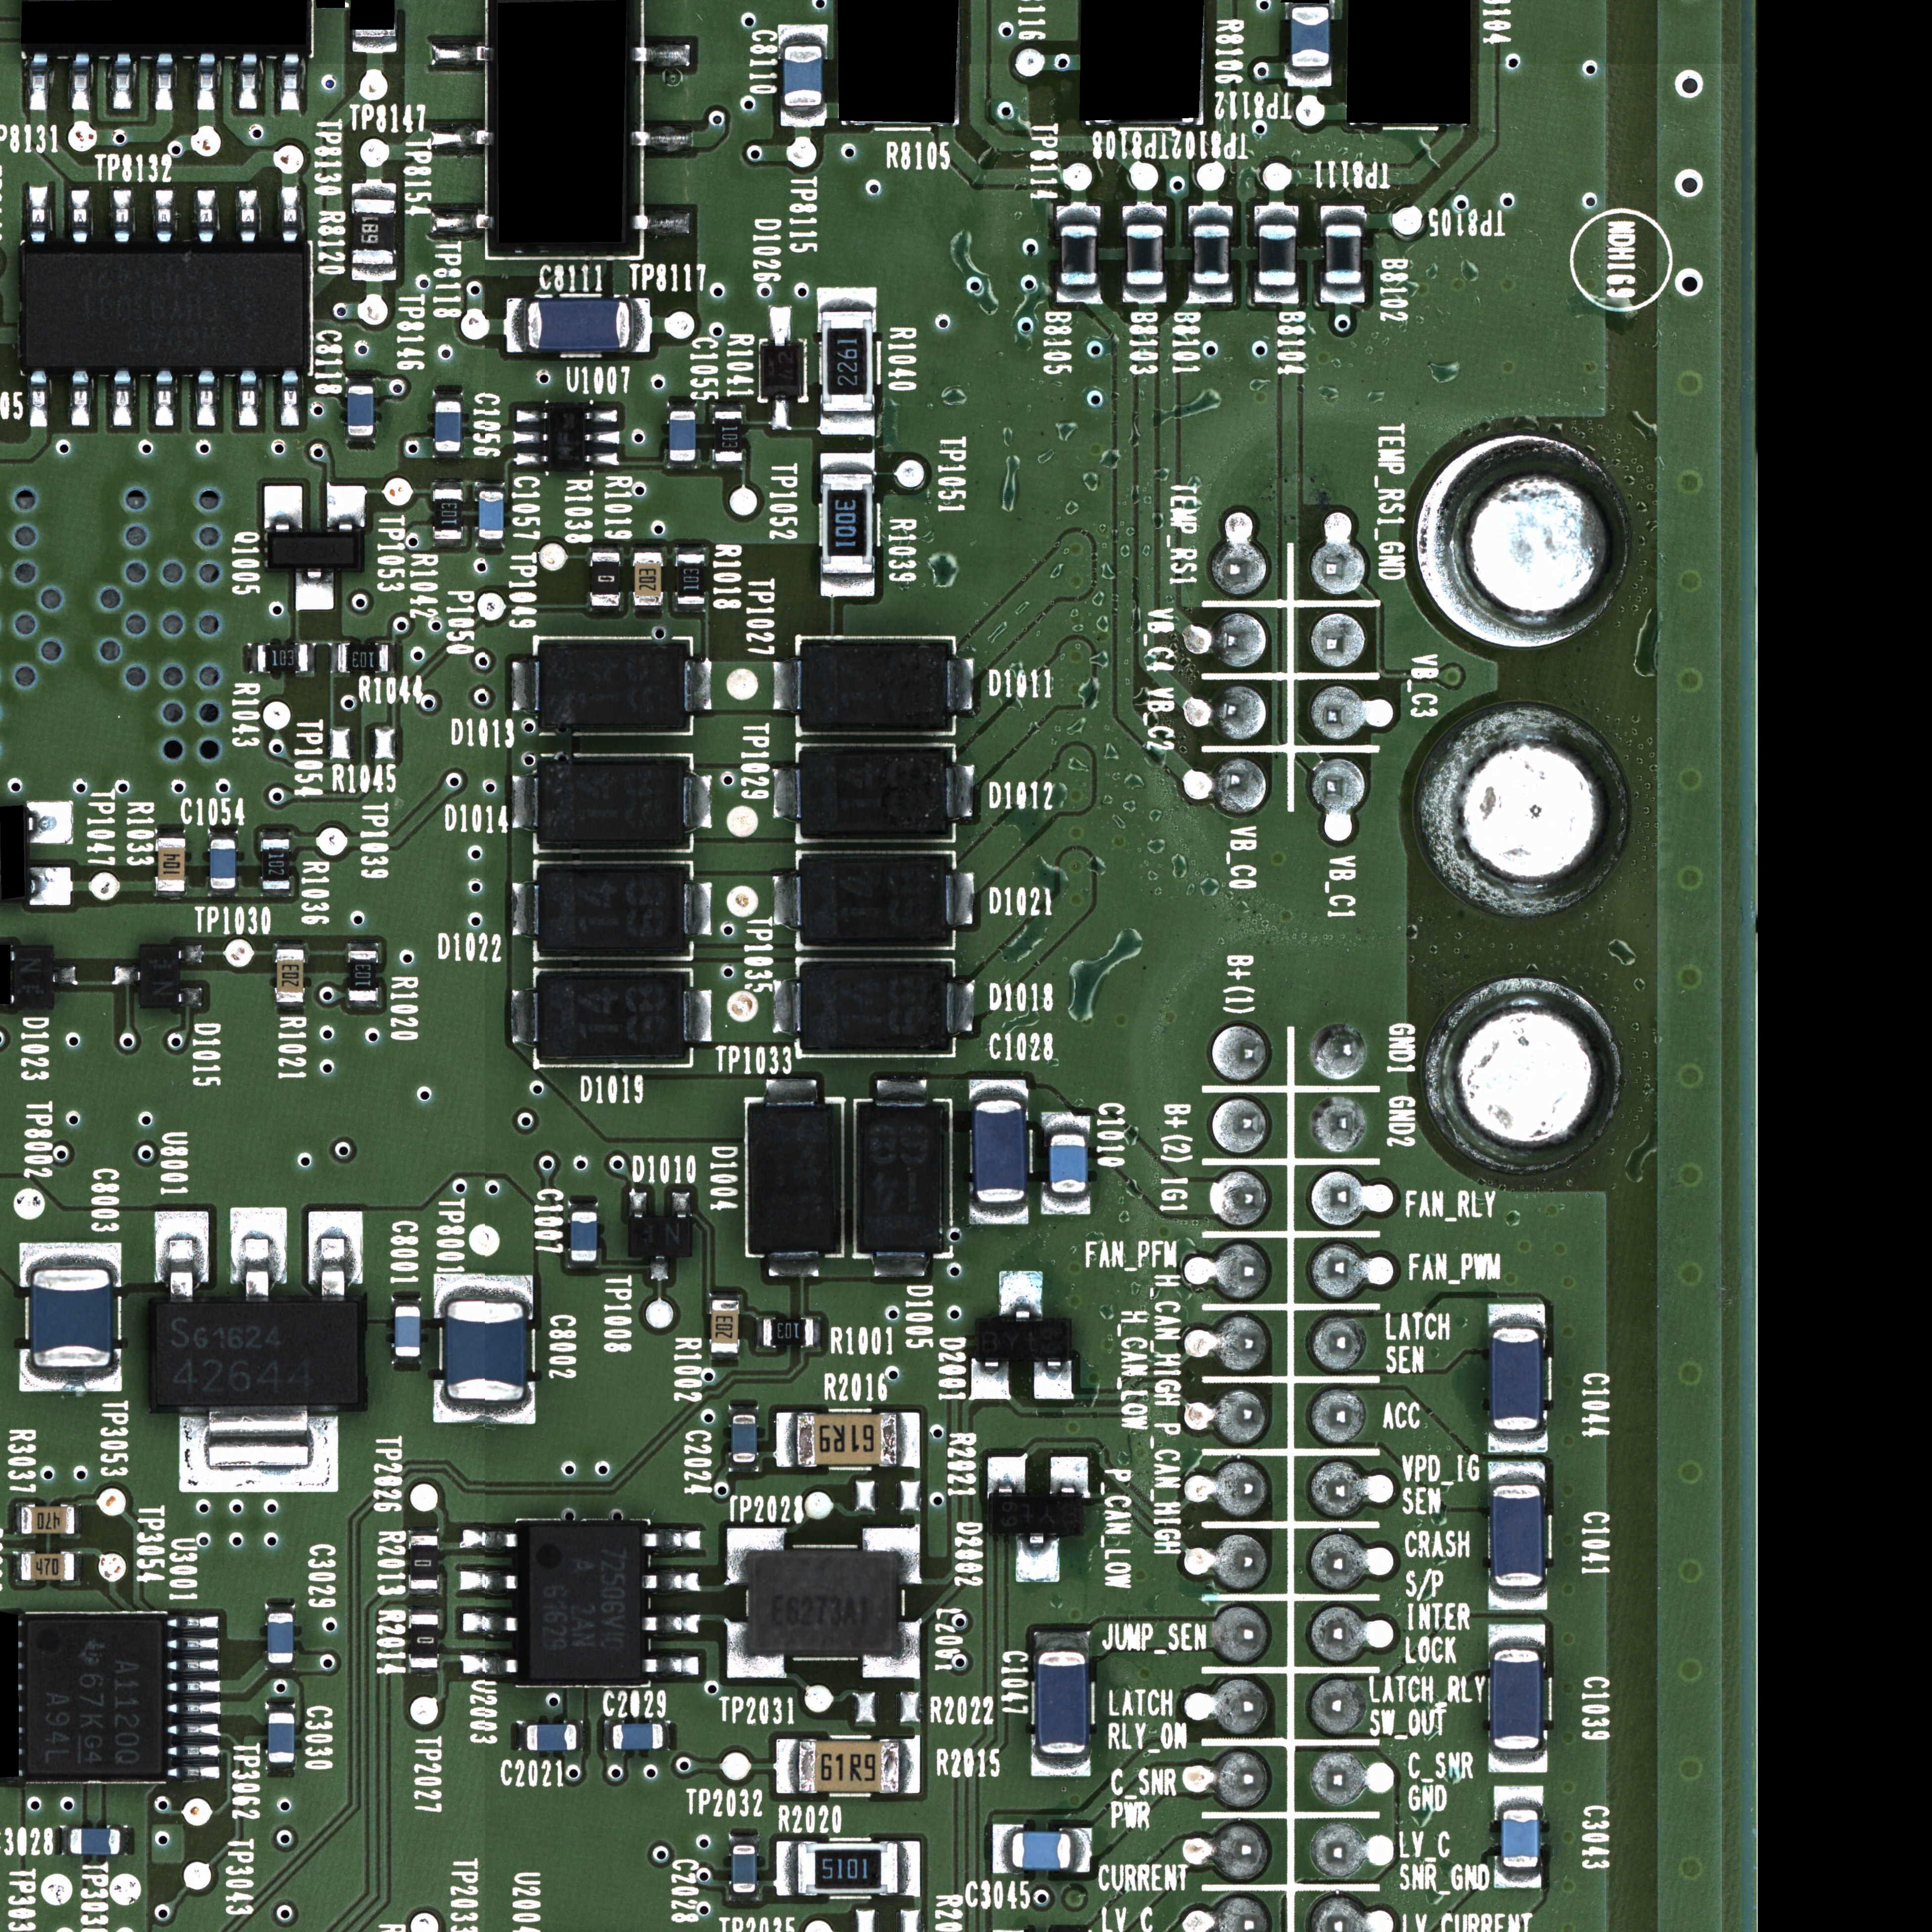Package: (26, 252, 305, 368), (26, 1619, 162, 1780), (155, 1304, 358, 1403), (529, 1526, 641, 1679), (752, 1553, 893, 1652), (749, 1104, 835, 1253), (539, 863, 684, 950), (801, 967, 948, 1051), (859, 1105, 943, 1251), (538, 971, 684, 1055), (538, 645, 685, 727), (539, 760, 683, 841), (800, 860, 946, 940), (801, 646, 947, 724), (800, 755, 946, 832), (28, 1269, 113, 1368), (798, 1740, 898, 1792), (1491, 1486, 1542, 1587), (528, 298, 629, 349), (797, 1414, 896, 1466), (973, 1102, 1024, 1202), (1036, 1653, 1086, 1755), (1492, 1329, 1541, 1430), (798, 1844, 897, 1894), (1492, 1649, 1541, 1749), (825, 313, 869, 413), (825, 475, 870, 574), (267, 532, 362, 568), (991, 1497, 1082, 1533), (980, 1321, 1068, 1359), (353, 198, 394, 264), (14, 946, 52, 1010), (628, 1218, 692, 1256), (783, 45, 822, 106), (140, 946, 178, 1005), (549, 406, 584, 472), (1292, 5, 1329, 67), (761, 345, 804, 398), (1014, 1831, 1071, 1869), (1259, 225, 1296, 285), (1061, 224, 1096, 285), (1127, 224, 1163, 284), (1502, 1809, 1539, 1868), (1326, 224, 1361, 284), (1050, 1135, 1086, 1194), (1194, 225, 1229, 284), (591, 553, 620, 605), (711, 1300, 739, 1355), (21, 1552, 74, 1581), (434, 489, 463, 540), (634, 552, 662, 605), (348, 950, 378, 1001), (21, 1506, 74, 1534), (410, 1615, 438, 1668), (411, 1536, 438, 1589), (277, 949, 303, 1002), (158, 838, 185, 890), (338, 644, 388, 672), (262, 839, 290, 889), (70, 1828, 120, 1855), (716, 412, 742, 461), (765, 1320, 814, 1346), (678, 554, 704, 604), (347, 386, 373, 436), (435, 401, 461, 451), (258, 645, 308, 671), (395, 1306, 420, 1356), (269, 1713, 294, 1762), (670, 411, 694, 461), (269, 1613, 293, 1663), (210, 839, 236, 888), (614, 1724, 662, 1749), (526, 1725, 576, 1750), (572, 1211, 596, 1261), (732, 1414, 755, 1462), (732, 1845, 755, 1892)
Solder: (178, 1405, 338, 1493), (231, 1208, 286, 1303), (308, 1211, 364, 1303), (156, 1211, 210, 1302), (862, 1527, 920, 1586), (728, 1529, 785, 1585), (727, 1622, 784, 1678), (862, 1623, 919, 1678), (20, 1243, 122, 1269), (19, 1366, 120, 1393), (1000, 1270, 1044, 1321), (1016, 1533, 1060, 1582), (276, 51, 307, 115), (29, 800, 73, 844), (430, 38, 490, 69), (431, 126, 493, 155), (108, 53, 139, 112), (431, 206, 492, 236), (327, 485, 365, 531), (264, 485, 302, 531), (30, 866, 73, 907), (633, 124, 694, 152), (150, 52, 178, 113), (235, 53, 262, 112), (1051, 1456, 1089, 1497), (295, 569, 334, 610), (25, 53, 52, 111), (818, 287, 877, 313), (634, 42, 694, 68), (1034, 1359, 1073, 1399), (971, 1358, 1009, 1399), (684, 775, 712, 829), (988, 1456, 1025, 1497), (510, 990, 538, 1042), (685, 882, 712, 936), (946, 872, 973, 925), (512, 776, 539, 829), (512, 883, 539, 936), (773, 768, 800, 820), (1488, 1303, 1545, 1328), (1488, 1586, 1548, 1610), (1488, 1749, 1548, 1773), (946, 765, 973, 817), (1489, 1624, 1545, 1649), (461, 1568, 516, 1594), (876, 1077, 927, 1105), (773, 874, 800, 926), (773, 660, 801, 710), (773, 980, 800, 1033), (1488, 1460, 1545, 1485), (1032, 1754, 1091, 1777), (685, 990, 711, 1042), (873, 1251, 925, 1277), (948, 658, 973, 711), (462, 1651, 517, 1676), (194, 53, 217, 111), (633, 211, 689, 236), (766, 1078, 818, 1104), (512, 661, 538, 712), (1488, 1430, 1548, 1452), (948, 981, 973, 1033), (970, 1078, 1027, 1101), (69, 53, 92, 110), (463, 1610, 517, 1634), (820, 411, 874, 435), (821, 573, 874, 596), (897, 1412, 920, 1467), (1033, 1630, 1089, 1652), (971, 1203, 1028, 1225), (768, 1253, 819, 1278), (686, 659, 711, 709), (462, 1528, 517, 1550), (642, 1614, 699, 1635), (776, 1739, 798, 1793), (1044, 1110, 1090, 1135), (641, 1531, 700, 1550), (1495, 1785, 1544, 1809), (505, 297, 526, 353), (641, 1656, 698, 1676), (899, 1841, 919, 1896), (630, 298, 651, 353), (641, 1573, 699, 1593), (238, 371, 258, 428), (154, 371, 174, 427), (281, 186, 300, 243), (820, 452, 874, 473), (29, 370, 48, 428), (197, 371, 216, 427), (29, 186, 48, 244), (776, 1412, 796, 1467), (776, 1841, 796, 1896), (777, 24, 828, 45), (71, 371, 90, 428), (113, 371, 132, 427), (281, 370, 300, 427), (901, 1738, 919, 1793), (239, 189, 257, 243), (992, 1824, 1013, 1874), (781, 105, 826, 128), (1188, 202, 1234, 225), (1056, 202, 1101, 224), (197, 190, 216, 243), (1043, 1193, 1091, 1214), (113, 190, 131, 243), (155, 190, 173, 244), (165, 1700, 223, 1716), (71, 190, 89, 244), (1496, 1868, 1541, 1888), (1255, 203, 1298, 224), (166, 1743, 223, 1759), (1123, 203, 1166, 224), (1321, 205, 1367, 224), (1072, 1828, 1091, 1873), (166, 1679, 222, 1694), (164, 1722, 221, 1738), (353, 180, 396, 199), (770, 306, 791, 346), (1285, 69, 1332, 87), (1321, 284, 1365, 303), (165, 1766, 221, 1781), (1188, 285, 1233, 303), (1056, 286, 1102, 303), (165, 1637, 219, 1652), (1254, 286, 1299, 304), (166, 1615, 220, 1630), (166, 1658, 220, 1673), (1123, 286, 1166, 303), (353, 264, 396, 282), (352, 36, 397, 50), (629, 1189, 647, 1218), (773, 398, 789, 429), (114, 966, 140, 985), (178, 945, 204, 965), (585, 451, 619, 465), (585, 431, 620, 444), (672, 1192, 690, 1218), (650, 1256, 669, 1281), (54, 966, 78, 985), (513, 432, 549, 444), (514, 409, 548, 423), (178, 988, 202, 1007), (514, 453, 549, 465), (585, 410, 619, 423), (246, 643, 257, 674), (277, 1003, 303, 1014), (347, 1001, 380, 1011), (120, 1826, 131, 1856), (568, 1201, 598, 1211), (208, 829, 238, 839), (728, 1892, 762, 1901), (813, 1316, 822, 1348), (516, 1720, 526, 1751), (433, 481, 462, 490), (433, 391, 463, 400), (267, 1702, 295, 1712), (266, 1602, 296, 1612), (663, 1721, 673, 1750), (392, 1296, 421, 1305), (712, 402, 743, 411), (345, 376, 376, 385), (729, 1463, 758, 1472), (206, 889, 239, 897), (432, 539, 465, 547), (267, 1603, 294, 1613), (12, 1551, 21, 1582), (61, 1827, 70, 1855), (676, 545, 706, 554), (392, 1357, 420, 1366), (604, 1721, 612, 1750), (729, 1405, 759, 1413), (590, 544, 620, 553), (346, 436, 376, 444), (388, 644, 397, 673), (576, 1720, 584, 1749), (713, 461, 743, 469), (308, 643, 316, 674), (154, 891, 187, 898), (155, 829, 186, 837), (74, 1551, 82, 1582), (74, 1504, 82, 1535), (261, 889, 291, 897), (330, 643, 338, 674), (589, 606, 621, 613), (409, 1528, 440, 1536), (268, 1763, 295, 1771), (567, 1261, 598, 1269), (668, 462, 697, 470), (668, 402, 695, 410), (710, 1292, 740, 1299), (675, 605, 705, 612), (730, 1835, 757, 1844), (260, 831, 290, 838), (346, 943, 379, 950), (275, 941, 305, 949), (633, 606, 662, 613), (432, 451, 463, 458), (408, 1589, 441, 1595), (408, 1607, 438, 1614), (633, 545, 663, 552), (14, 1504, 21, 1534), (410, 1668, 438, 1674)
